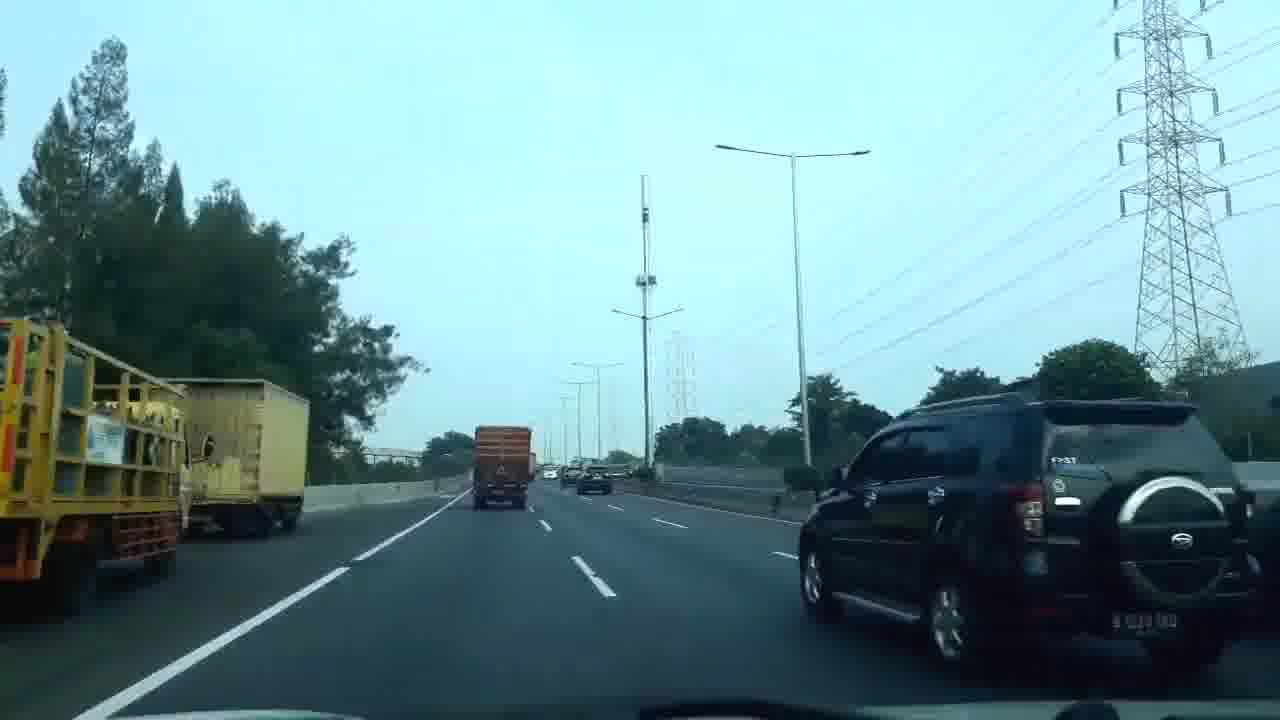plate_positive: (1108, 608, 1178, 640)
